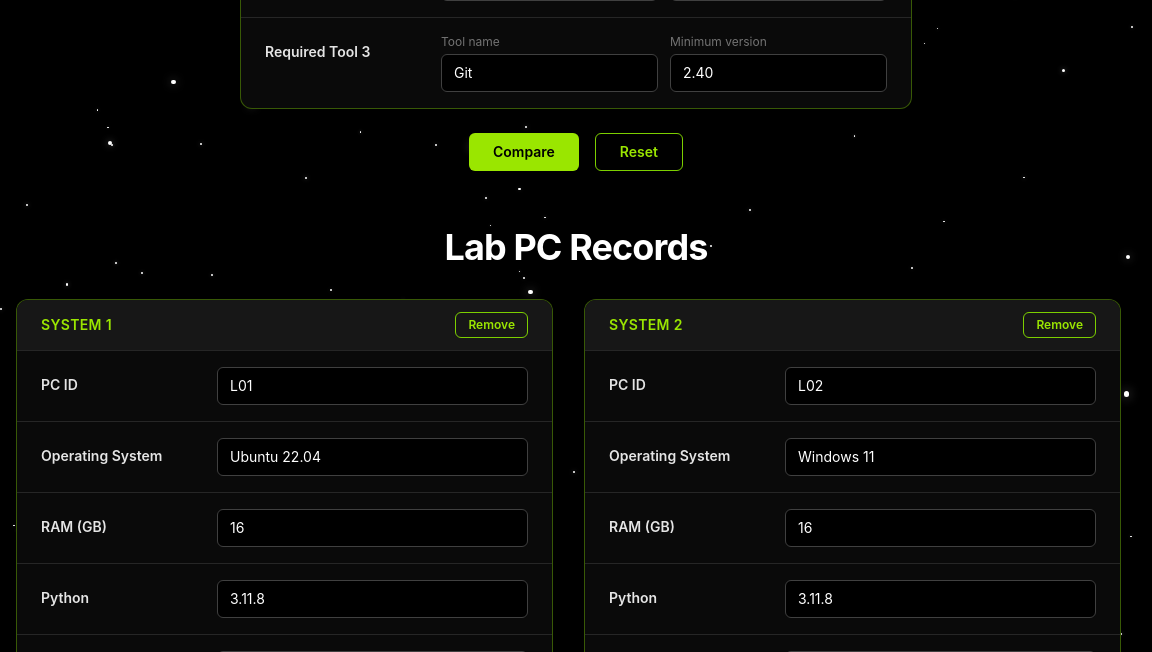
Scenario: App (Section 2: PC Records) › removes a PC record when Remove is clicked
The image size is (1152, 652).
(page scrolled)
Click the button with aria-label "Remove system 2" at {"x": 1060, "y": 325}, box top-left (1023, 312), bottom-right (1096, 338)
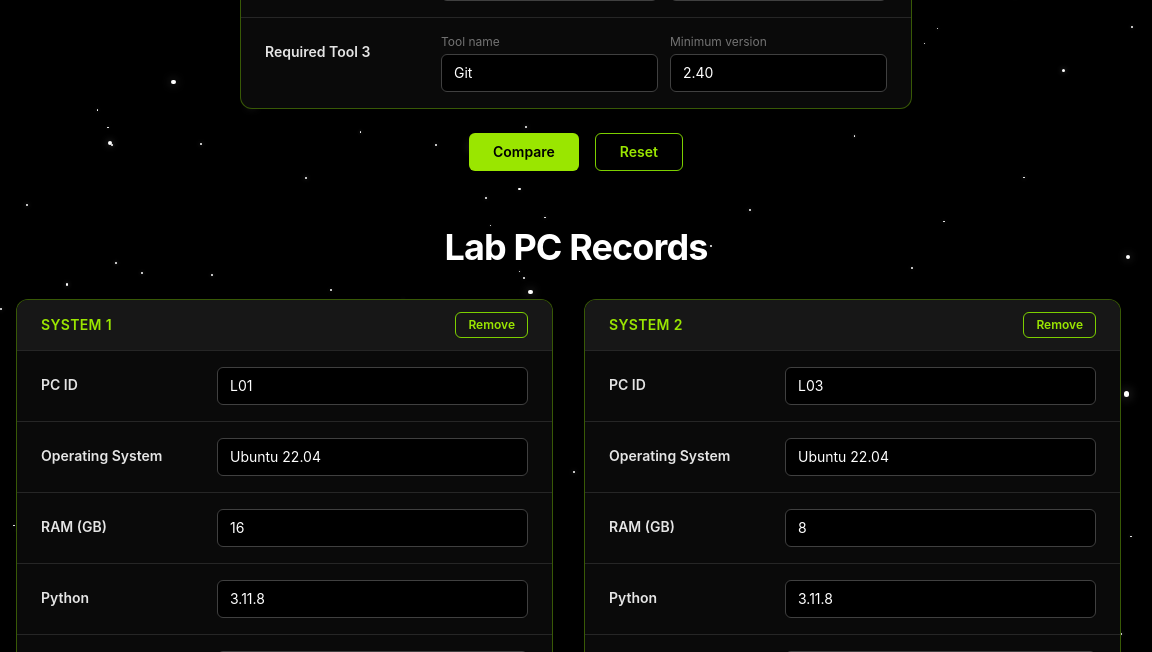
Check: the number of fields labelled "PC ID" is 3
